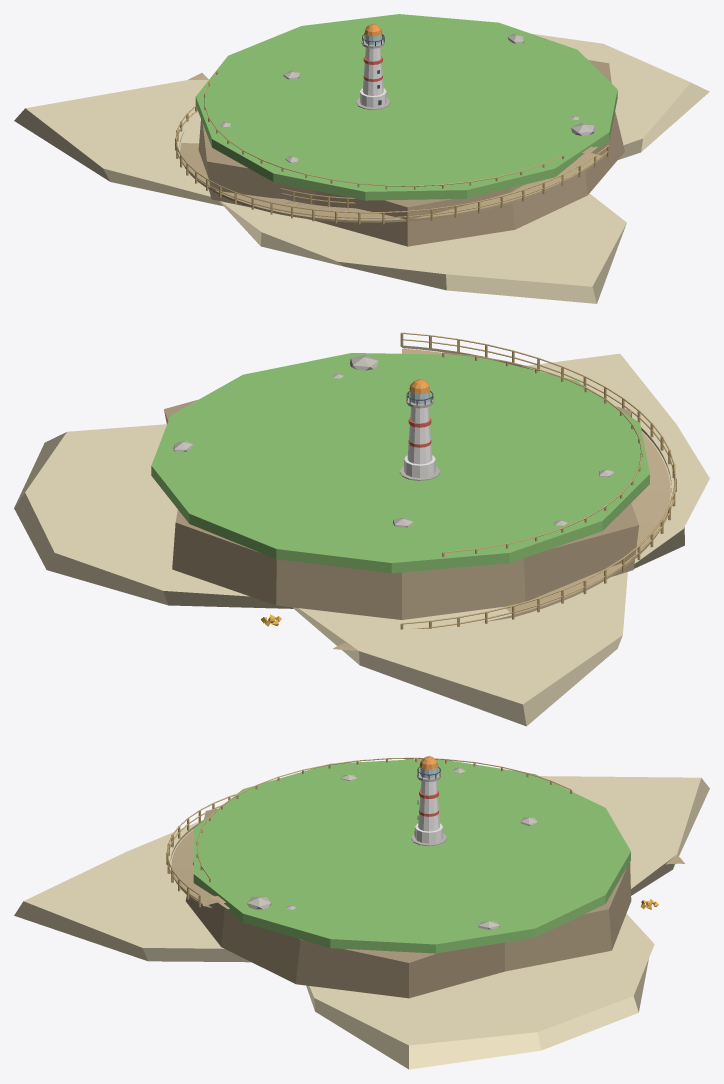
Rendered from island.glb.
The picture shows the model from 3 angles, top to bottom: view 1: azimuth 30°, elevation 25°; view 2: azimuth 150°, elevation 25°; view 3: azimuth 270°, elevation 25°; orthographic projection. The views are drawn at different scales.
Parts seen in each view (by area): view 1: GrassTop, SandBase, Cliff, DirtRamp, RampEdge, LH_Tower; view 2: GrassTop, SandBase, Cliff, DirtRamp, LH_Tower, RampEdge; view 3: GrassTop, SandBase, Cliff, DirtRamp, LH_Tower.
Boxes of the visible parts, left/top/right/bottom form: GrassTop: left=195, top=14, right=617, bottom=200; SandBase: left=14, top=33, right=709, bottom=303; Cliff: left=198, top=60, right=624, bottom=246; DirtRamp: left=180, top=143, right=602, bottom=220; RampEdge: left=179, top=132, right=605, bottom=222; LH_Tower: left=362, top=47, right=383, bottom=95; GrassTop: left=151, top=353, right=649, bottom=573; SandBase: left=14, top=353, right=709, bottom=726; Cliff: left=164, top=400, right=638, bottom=619; DirtRamp: left=402, top=348, right=670, bottom=614; LH_Tower: left=407, top=407, right=432, bottom=464; RampEdge: left=402, top=345, right=671, bottom=622; GrassTop: left=193, top=758, right=630, bottom=953; SandBase: left=14, top=776, right=709, bottom=1069; Cliff: left=185, top=759, right=631, bottom=998; DirtRamp: left=171, top=830, right=220, bottom=905; LH_Tower: left=418, top=781, right=439, bottom=831.
Size of what is drawn, in the model's own units: 66.52 by 17 by 69.6.
